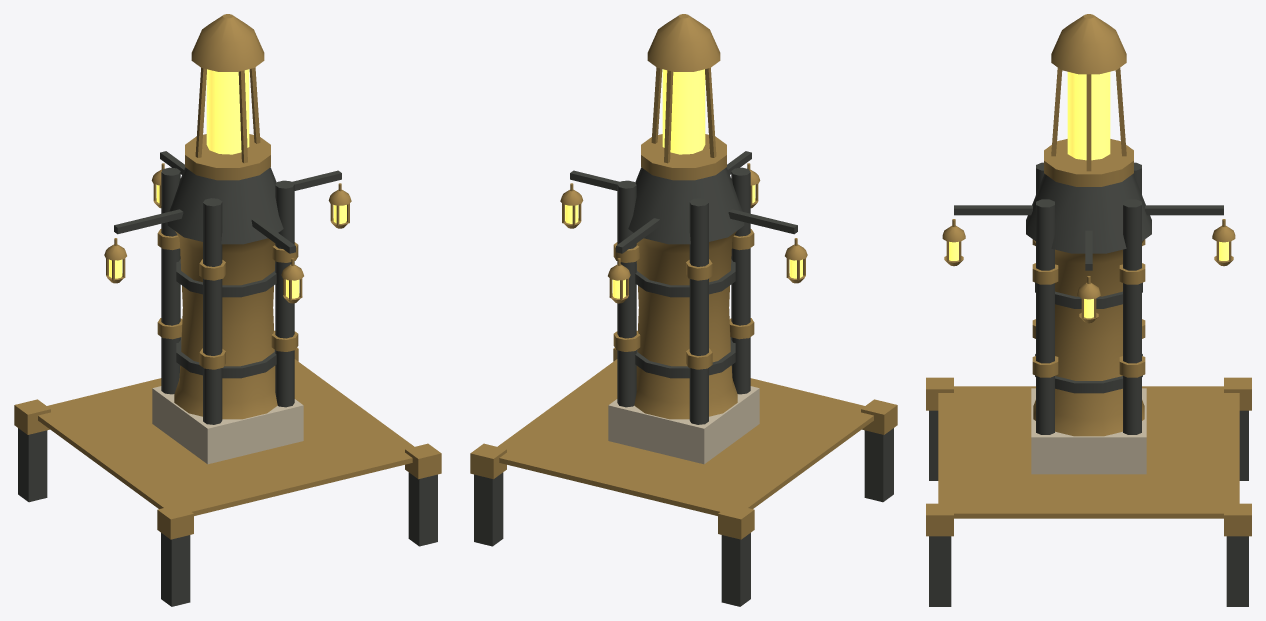
File: monument.glb
The picture shows the model from 3 angles, left to right: view 1: azimuth 30°, elevation 25°; view 2: azimuth 150°, elevation 25°; view 3: azimuth 270°, elevation 25°; orthographic projection. The views are drawn at different scales.
Parts seen in each view (by area): view 1: monument; view 2: monument; view 3: monument.
Boxes of the visible parts, x1,y1,x2,y2 form: monument: (14, 14, 441, 606); monument: (470, 14, 897, 606); monument: (926, 14, 1251, 606).
Bounding box in the file's own units: 3.5 × 6.2 × 3.5.
